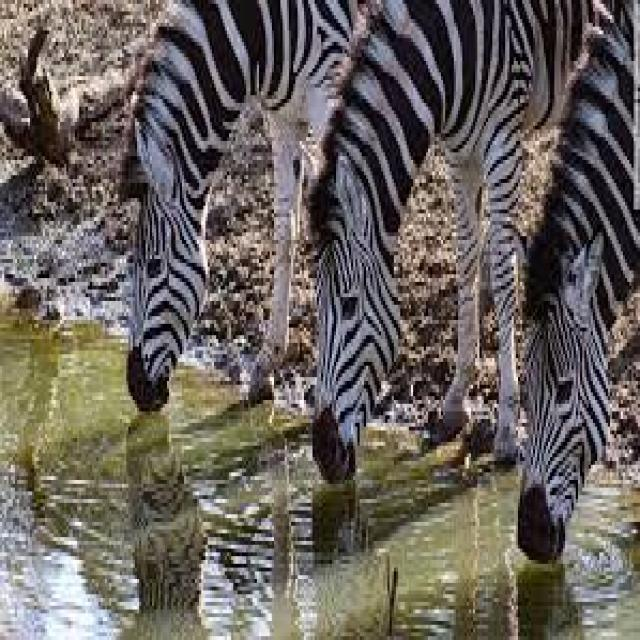Zebra: (302, 7, 514, 501), (118, 4, 291, 439), (514, 10, 640, 548)
